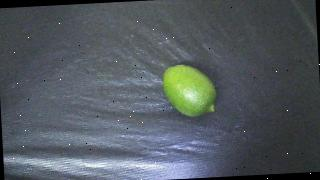LOCAL: (162, 64, 218, 119)
